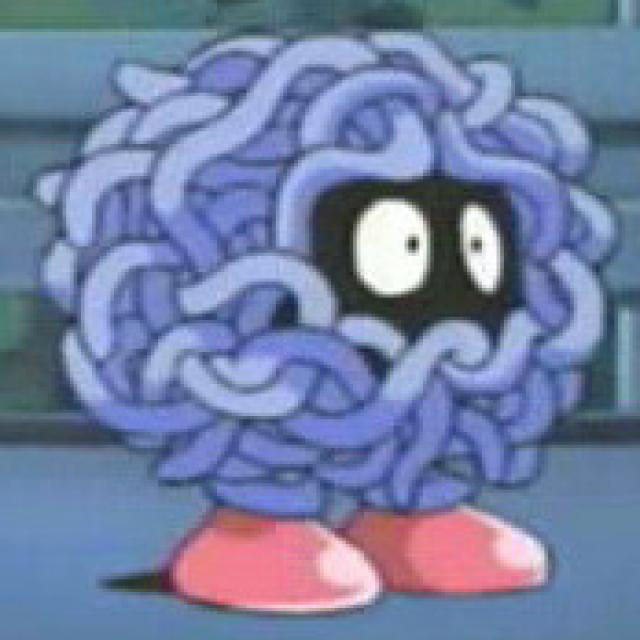Tangela: (136, 38, 596, 616)
